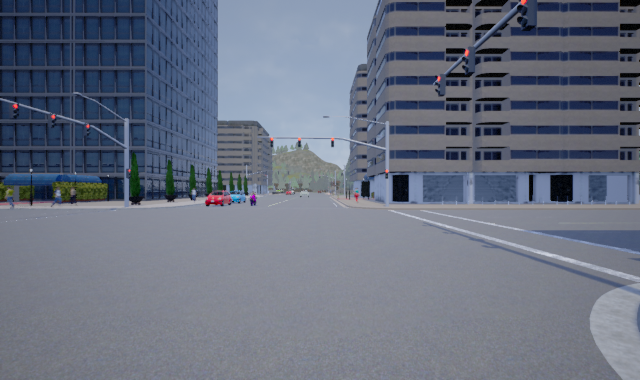motobike: (248, 189, 257, 206)
pedestrian: (2, 185, 18, 208), (50, 185, 65, 207), (66, 185, 79, 206), (190, 186, 198, 202), (353, 186, 360, 203)
vehicle: (205, 190, 231, 206), (224, 189, 246, 204)
